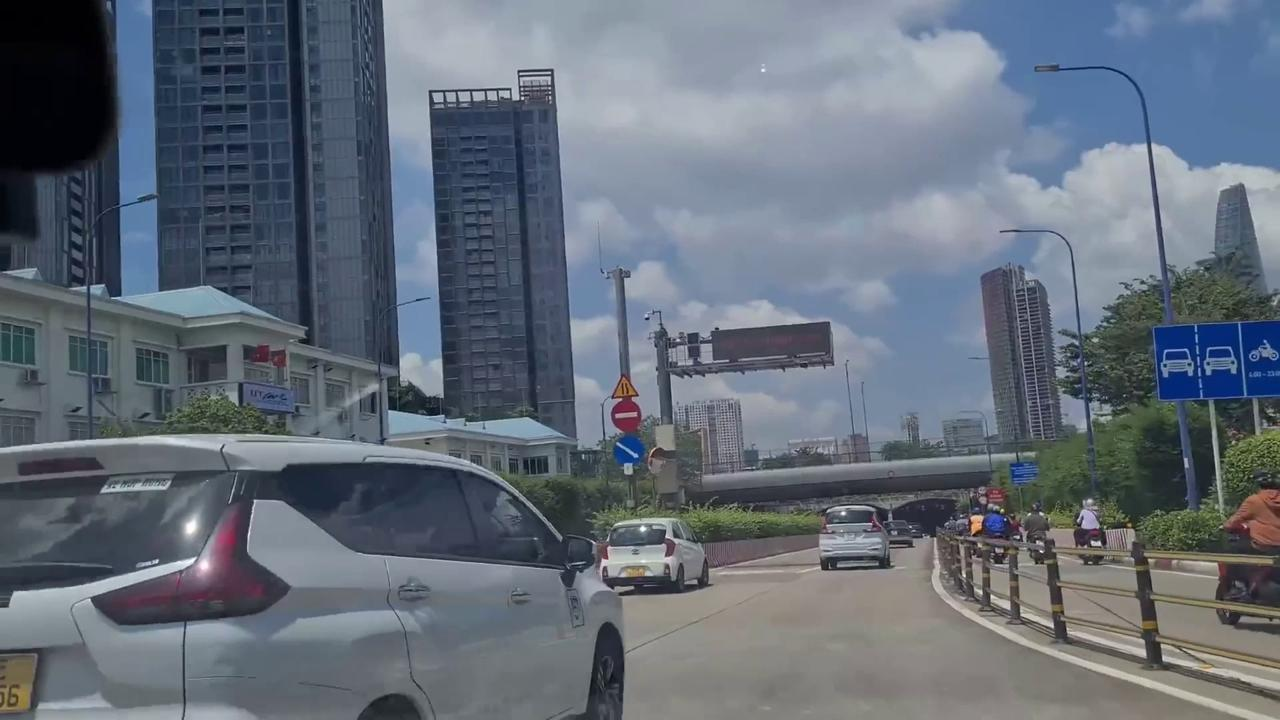Cấm đi ngược chiều: (611, 399, 644, 434)
Hướng phải đi vòng sang phải: (613, 435, 645, 465)
Làn đường cho từng xe: (1153, 322, 1278, 402)
Đuờng hẹp: (612, 372, 640, 399)
